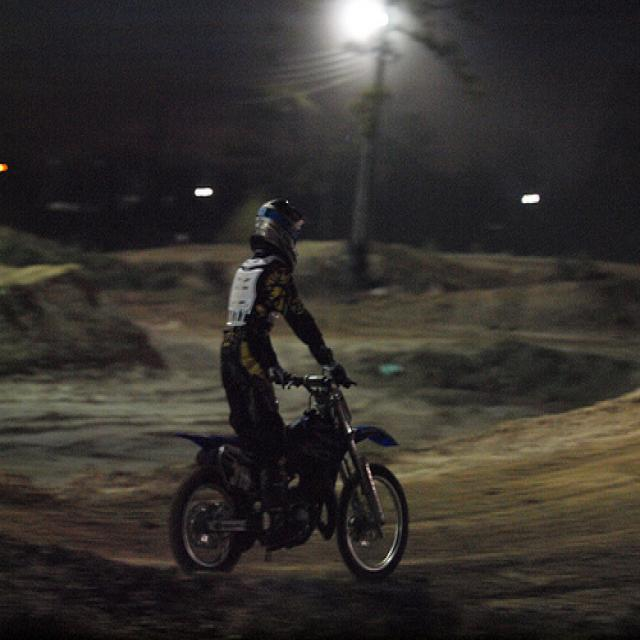Motorbike: (157, 325, 440, 607)
People: (221, 159, 329, 551)
